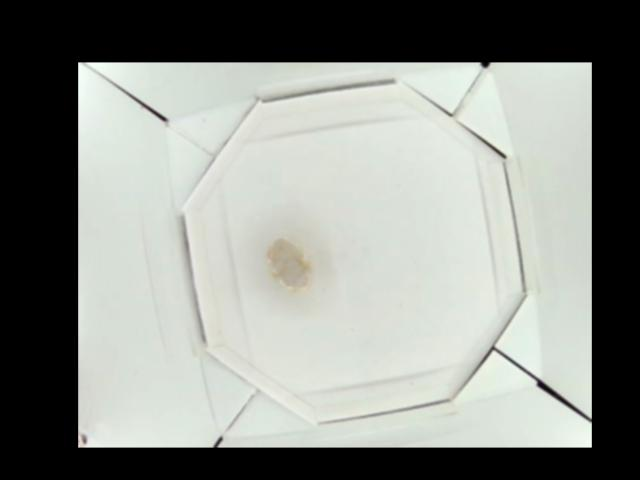Pebble: (267, 234, 306, 289)
